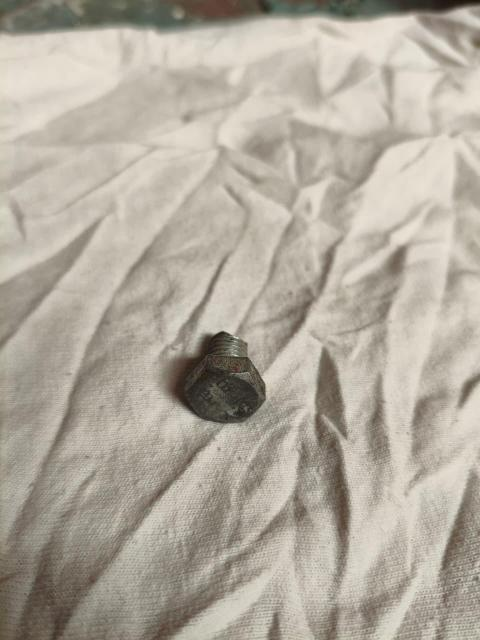Metal: (187, 327, 272, 418)
